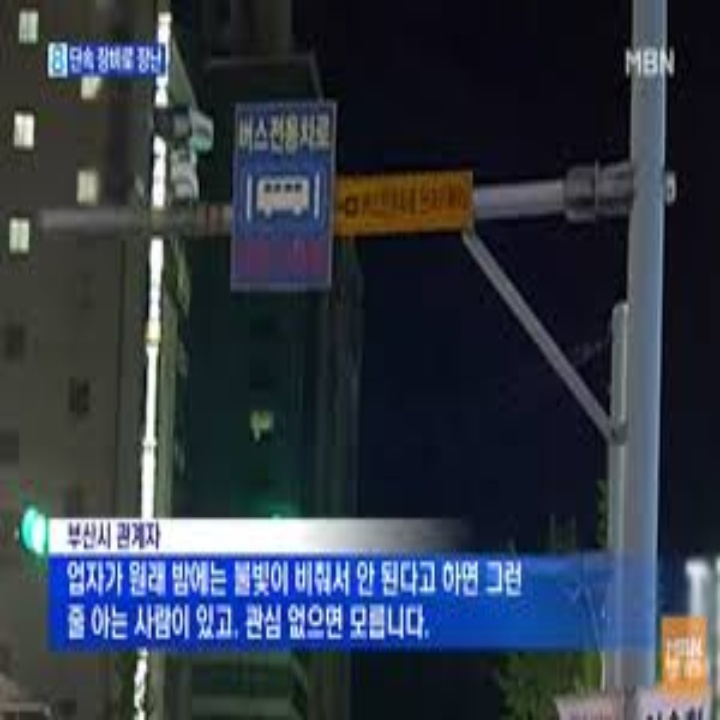bus: (252, 168, 310, 219)
